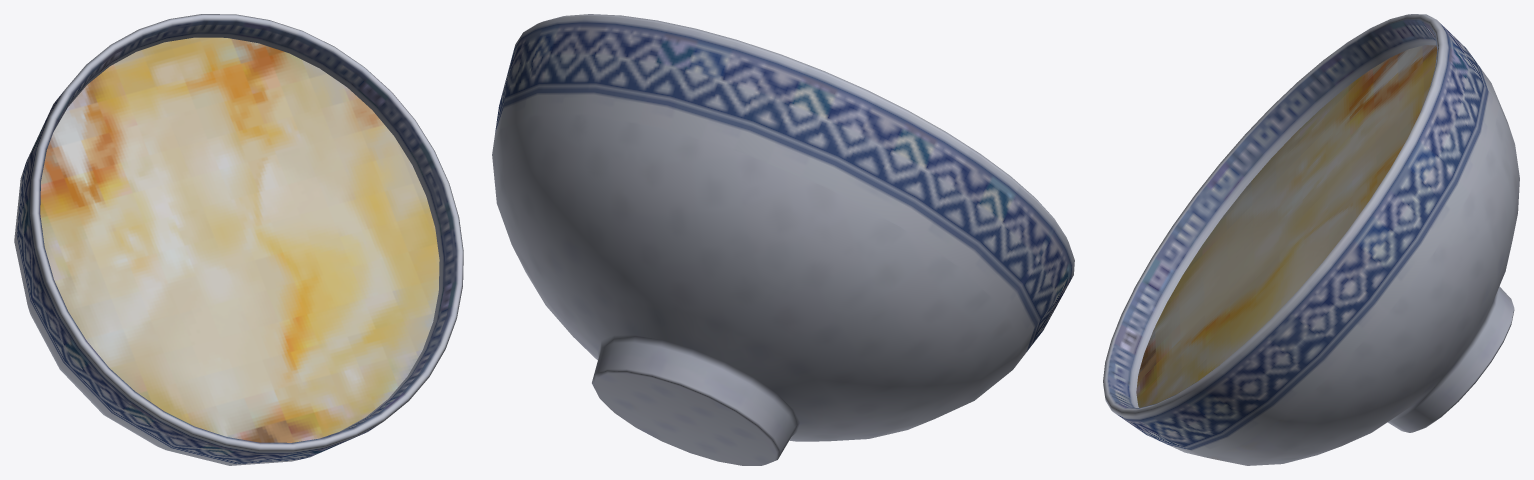
Rendered from ref_bftofupudding.glb.
3 views of the same model, side by side, from view 1: azimuth 30°, elevation 25°; view 2: azimuth 150°, elevation 25°; view 3: azimuth 270°, elevation 25° (orthographic). The views are drawn at different scales.
Parts seen in each view (by area): view 1: ref_bftofupudding; view 2: ref_bftofupudding; view 3: ref_bftofupudding.
Boxes of the visible parts, <box> form: ref_bftofupudding: <box>14,14,463,465</box>; ref_bftofupudding: <box>492,14,1074,465</box>; ref_bftofupudding: <box>1103,14,1519,465</box>.
Bounding box in the file's own units: 1 × 0.8588 × 0.8195.
Materials: 1 (1 with a texture image).
